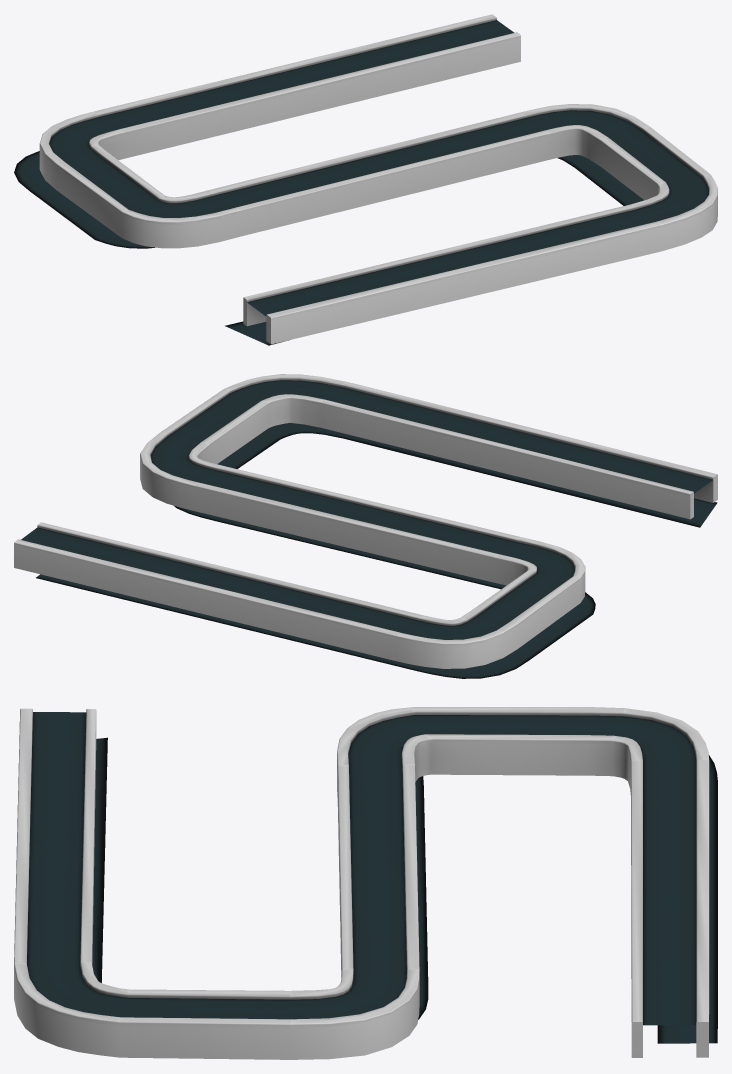
Rendered from belt_10.fbx.
3 views of the same model, one above another, from view 1: azimuth 30°, elevation 25°; view 2: azimuth 150°, elevation 25°; view 3: azimuth 270°, elevation 25° (orthographic). The views are drawn at different scales.
Parts seen in each view (by area): view 1: belt_11_side, belt_11, belt_11_shadow; view 2: belt_11_side, belt_11, belt_11_shadow; view 3: belt_11, belt_11_side, belt_11_shadow.
Boxes of the visible parts, left/top/right/bottom form: belt_11_side: left=39, top=14, right=717, bottom=344; belt_11: left=49, top=20, right=708, bottom=316; belt_11_shadow: left=14, top=151, right=643, bottom=345; belt_11_side: left=14, top=374, right=717, bottom=668; belt_11: left=21, top=380, right=712, bottom=639; belt_11_shadow: left=36, top=423, right=717, bottom=678; belt_11: left=27, top=712, right=696, bottom=1025; belt_11_side: left=14, top=707, right=709, bottom=1059; belt_11_shadow: left=92, top=737, right=717, bottom=1043.
Size of the model in its own units: 116 by 6.3 by 105.
Materials: 1 (1 with a texture image).
